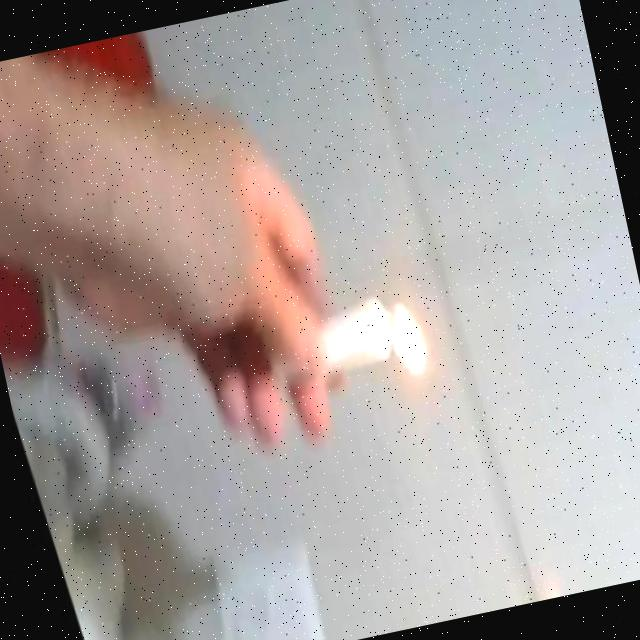fire: (376, 296, 436, 387)
